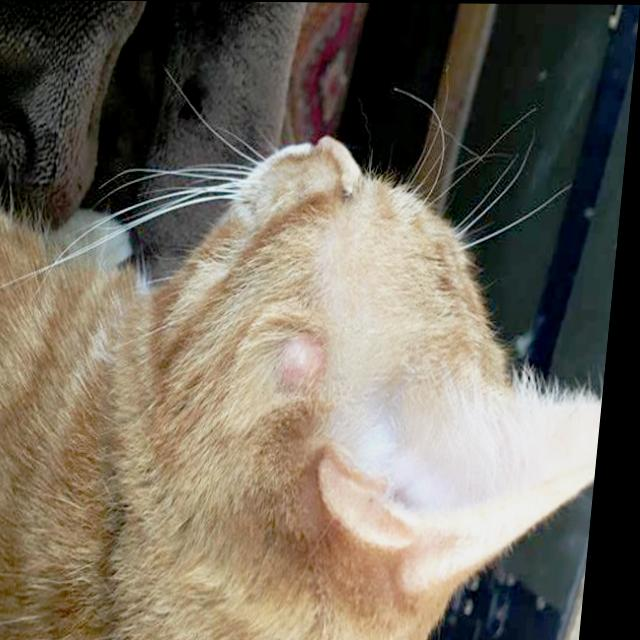lump_and_bump: (276, 333, 323, 389)
